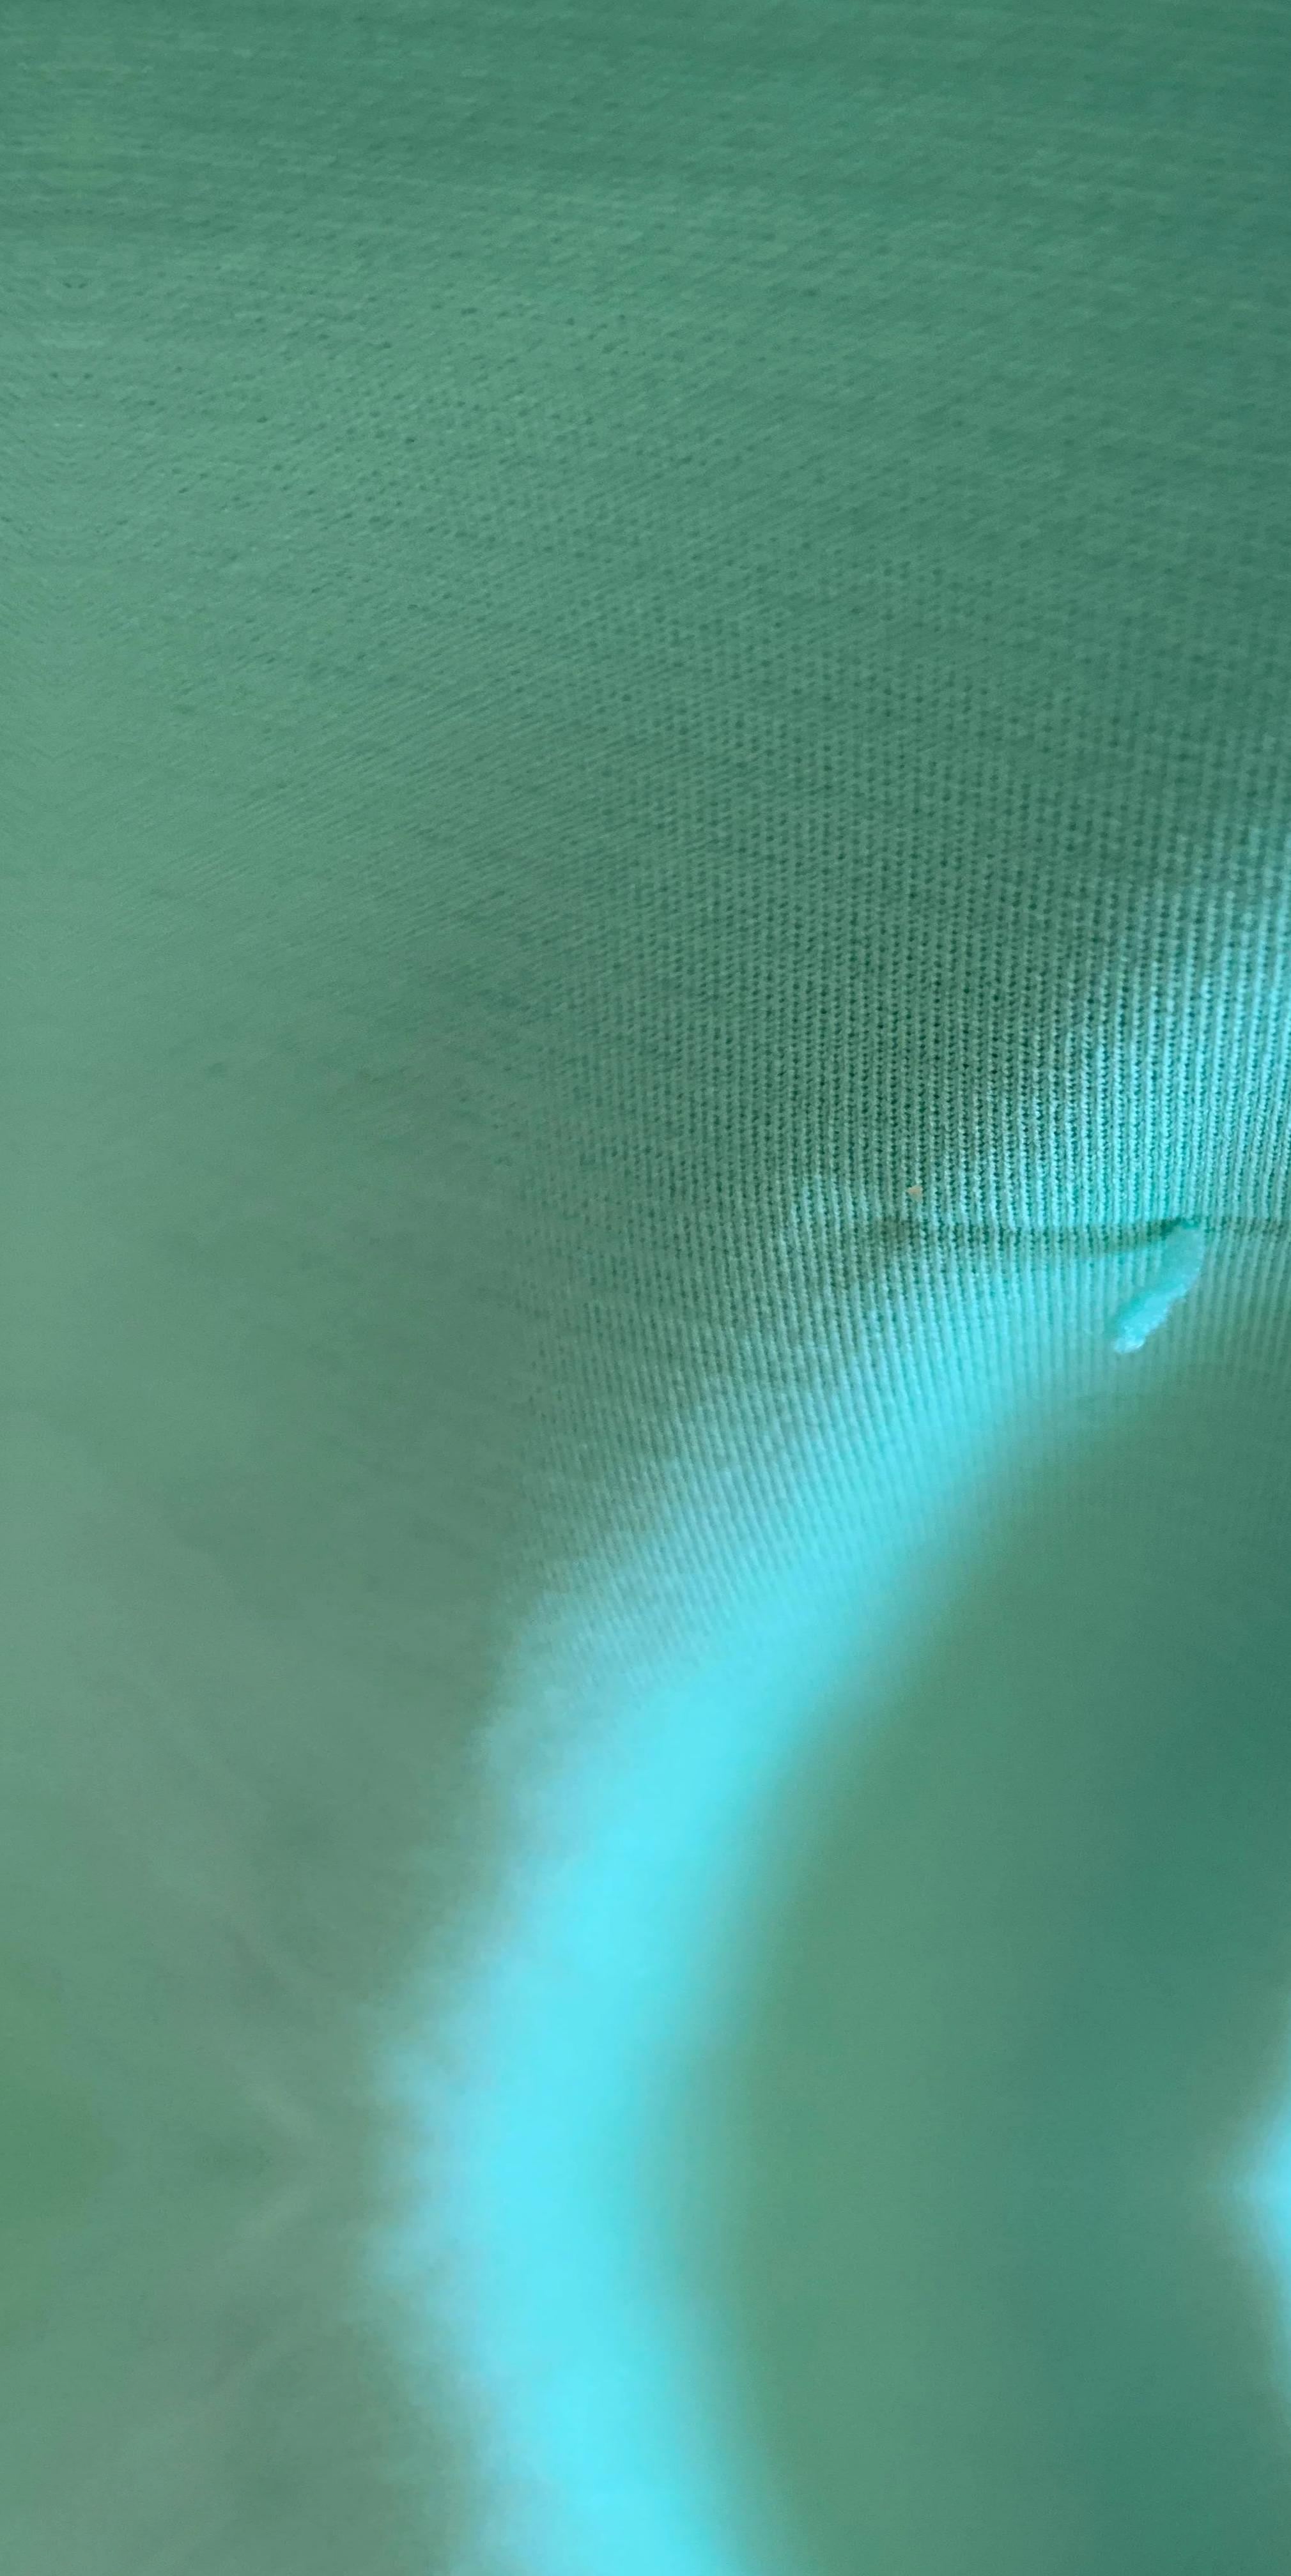snag: (1064, 1128, 1245, 1412)
